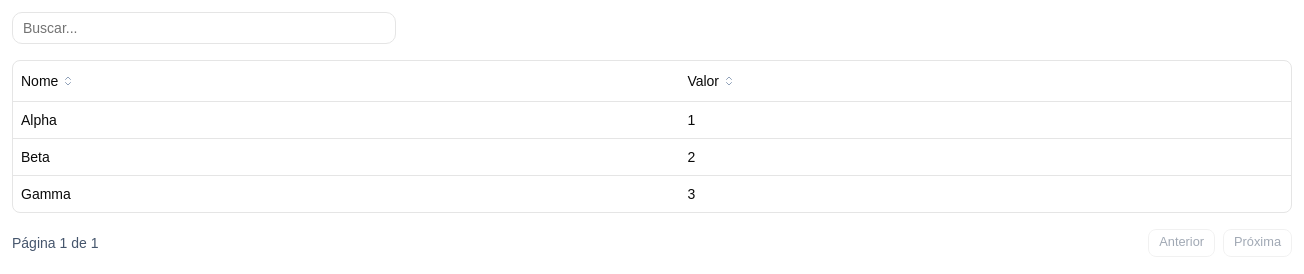
Test: DataTable › filters rows by search input
Type "Beta" into the field with placeholder "Buscar..." at (204, 28), box [12, 12, 396, 44]
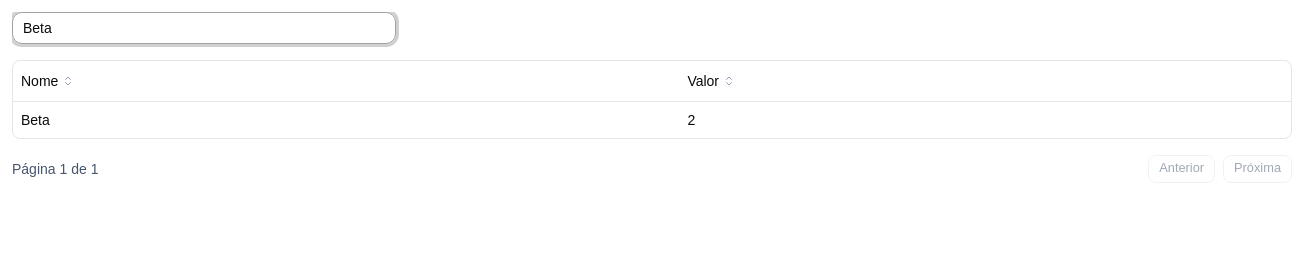
expect the text "Beta" is shown: met, box [13, 101, 679, 138]
expect the text "Alpha" is gone: met
